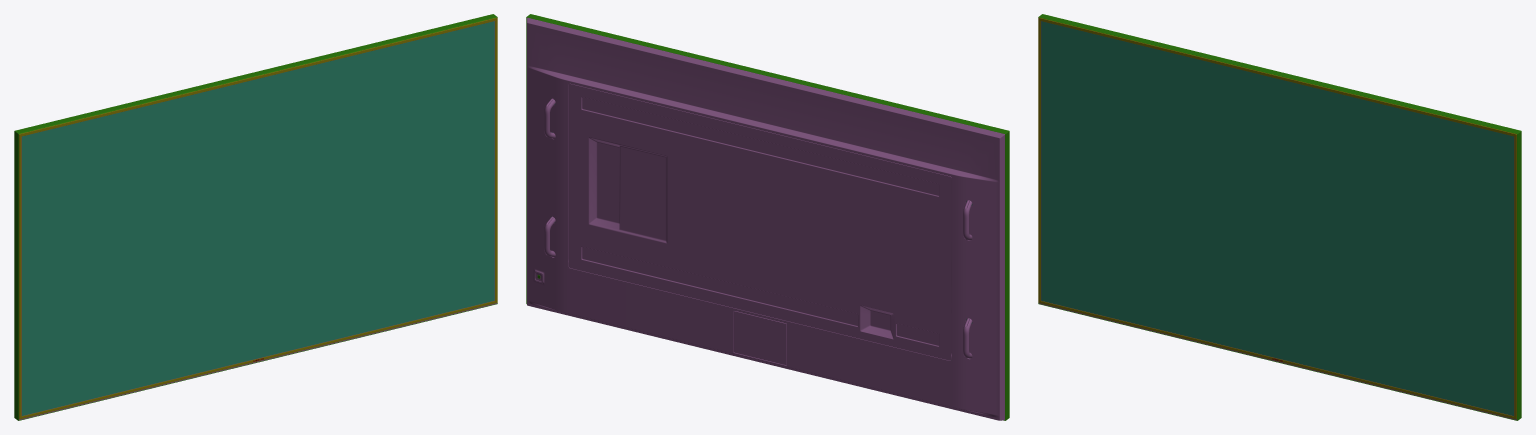
The model's file is SM_TV_Samsung.fbx.
3 renders of one model, left to right at view 1: azimuth 30°, elevation 25°; view 2: azimuth 150°, elevation 25°; view 3: azimuth 330°, elevation 25°, orthographic.
Parts seen in each view (by area): view 1: SM_TV_Samsung; view 2: SM_TV_Samsung; view 3: SM_TV_Samsung.
Part boxes in pixels (x1,y1,x2,y2): SM_TV_Samsung: (14,14,497,420); SM_TV_Samsung: (526,14,1009,420); SM_TV_Samsung: (1038,14,1521,420).
Size of the model in its own units: 190 by 109 by 10.43.
